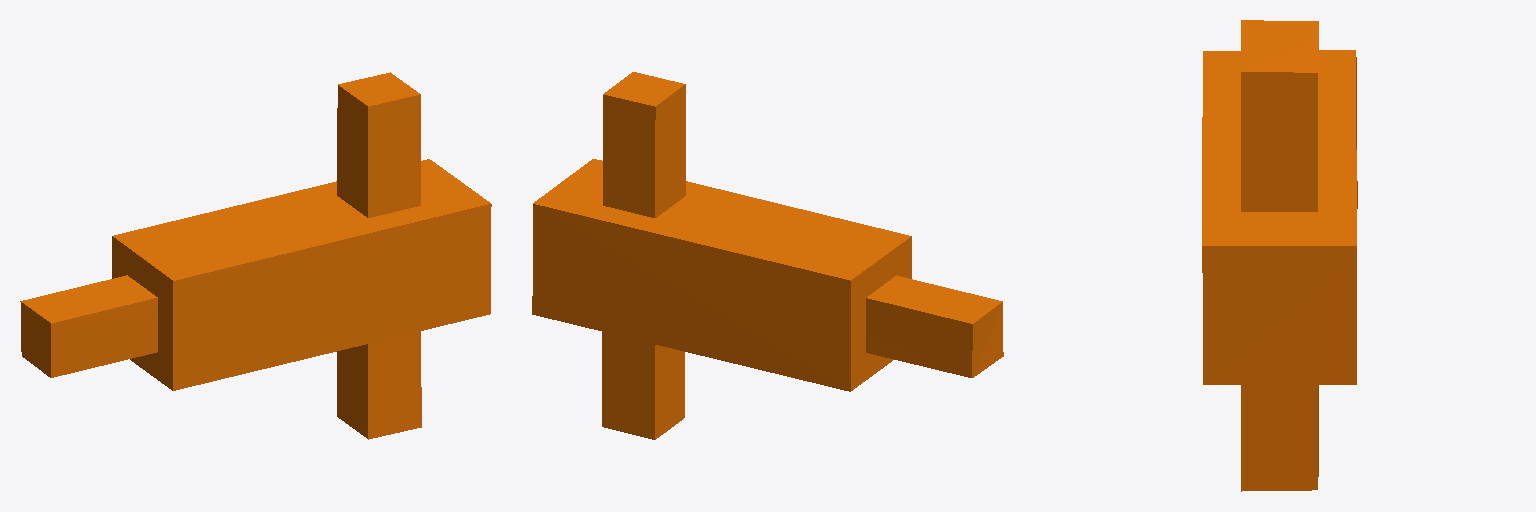
robot.urdf — procedural_obj_0002:
<?xml version="0.0" ?>
<!-- based on data/cube.urdf -->
<robot name="procedural_obj_0002">
  <link name="procedural_obj_0002">
    <contact>
      <lateral_friction value="1.0"/>
      <rolling_friction value="0.0"/>
      <contact_cfm value="0.0"/>
      <contact_erp value="1.0"/>
    </contact>
    <inertial>
      <origin rpy="0 0 0" xyz="0 0 0"/>
       <mass value="1.0"/>
       <inertia ixx="1" ixy="0" ixz="0" iyy="1" iyz="0" izz="1"/>
    </inertial>
    <visual>
      <origin rpy="0 0 0" xyz="0 0 0"/>
      <geometry>
	<mesh filename="0002.obj" scale="1 1 1"/>
      </geometry>
       <material name="random_colour">
        <color rgba="0.943 0.506 0.070 1"/>
      </material>
    </visual>
    <collision>
      <origin rpy="0 0 0" xyz="0 0 0"/>
      <geometry>
	<mesh filename="0002.vhacd.obj" scale="1 1 1"/>
      </geometry>
    </collision>
  </link>
</robot>

--- What the picture shows (computed from the rendered views, not written in the file) ---
Views: 3 orthographic renders of the robot side by side, from view 1: azimuth 30°, elevation 25°; view 2: azimuth 150°, elevation 25°; view 3: azimuth 270°, elevation 25°.
Robot: procedural_obj_0002 — 1 links, 0 joints (none); root link procedural_obj_0002; default pose: every joint at zero.
Visible links, largest first — view 1: procedural_obj_0002; view 2: procedural_obj_0002; view 3: procedural_obj_0002.
Boxes of the visible links, x1,y1,x2,y2 form: procedural_obj_0002: (20,72,491,439); procedural_obj_0002: (532,72,1003,439); procedural_obj_0002: (1202,20,1357,491).
Size in the robot's own frame: 0.1202 by 0.0302 by 0.0902 metres.
1 mesh visuals loaded from 1 distinct referenced files (1 OBJ).